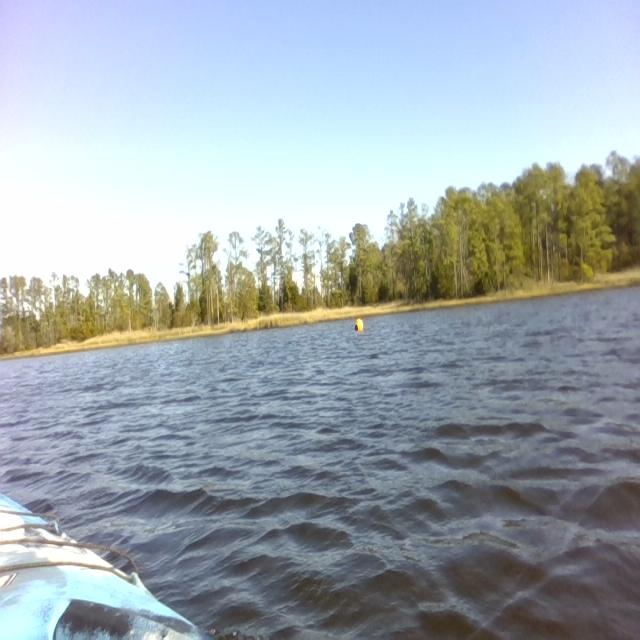Buoy: (347, 310, 368, 339)
